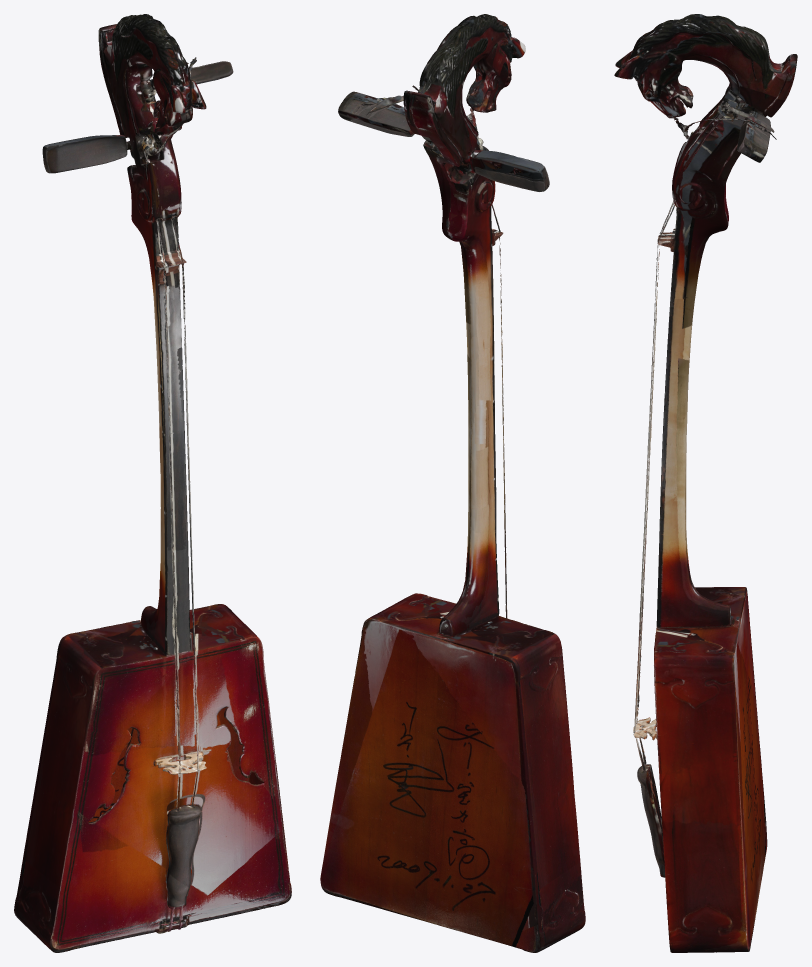
Rendered from morin-optimized.glb.
3 renders of one model, left to right at view 1: azimuth 30°, elevation 25°; view 2: azimuth 150°, elevation 25°; view 3: azimuth 270°, elevation 25°, orthographic. The views are drawn at different scales.
Visible parts, largest first — view 1: geometry_0; view 2: geometry_0; view 3: geometry_0.
Part boxes in pixels (x1,y1,x2,y2): geometry_0: (14, 14, 291, 952); geometry_0: (320, 14, 585, 952); geometry_0: (614, 14, 797, 952).
Size of the model in its own units: 8.28 by 30.36 by 5.62.
Materials: 1 (1 with a texture image).
